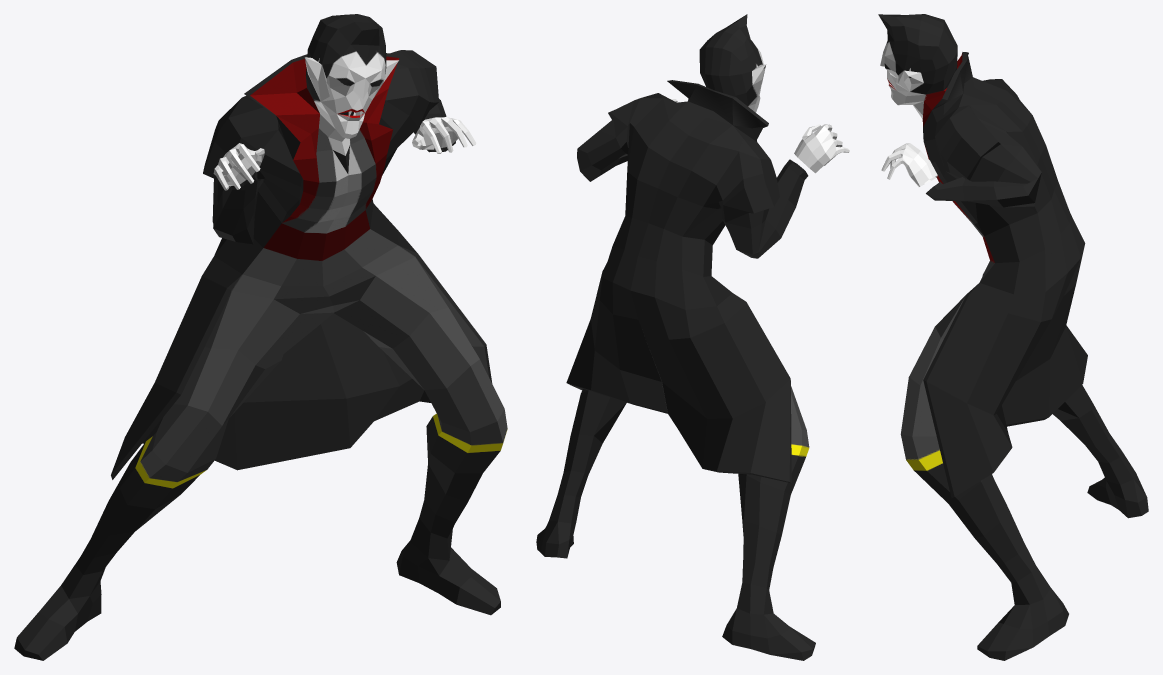
File: VampireAttack(78).obj
3 renders of one model, left to right at view 1: azimuth 30°, elevation 25°; view 2: azimuth 150°, elevation 25°; view 3: azimuth 270°, elevation 25°, orthographic. The views are drawn at different scales.
Parts seen in each view (by area): view 1: Plane002; view 2: Plane002; view 3: Plane002.
Boxes of the visible parts, <box> form: Plane002: <box>14,14,507,660</box>; Plane002: <box>536,14,849,660</box>; Plane002: <box>878,14,1148,660</box>.
Size of the model in its own units: 188 by 292 by 126.
